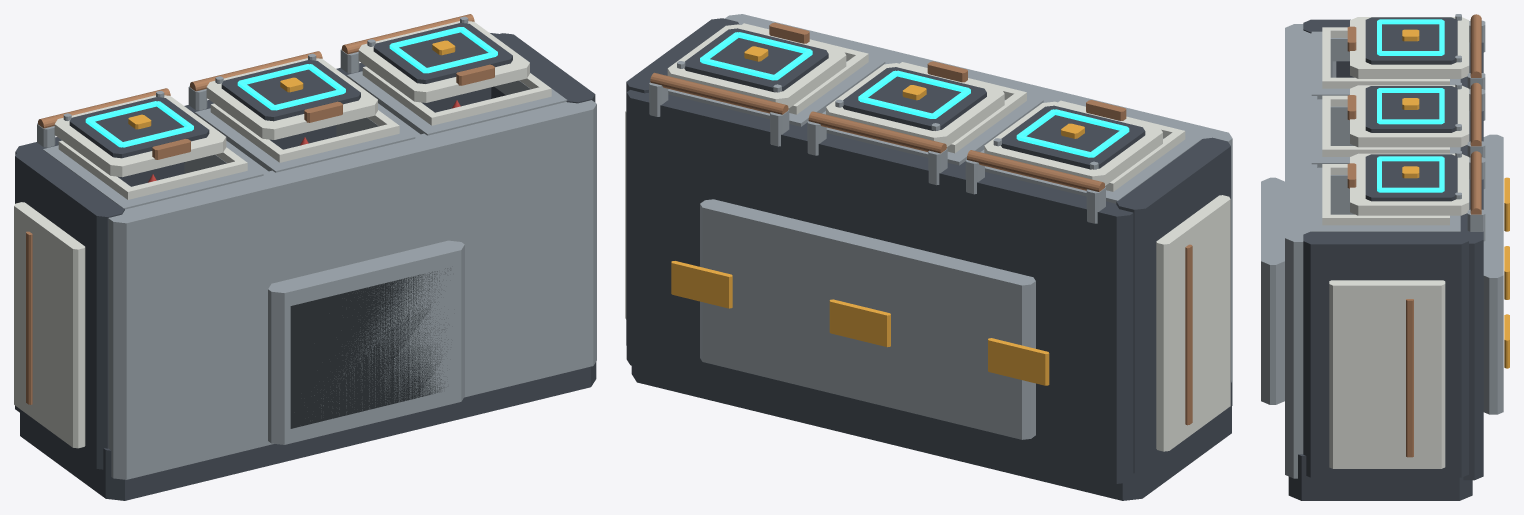
File: M01-009_tri_segment_rocket_launcher_animated.glb
3 views of the same model, side by side, from view 1: azimuth 30°, elevation 25°; view 2: azimuth 150°, elevation 25°; view 3: azimuth 270°, elevation 25° (orthographic). The views are drawn at different scales.
Parts seen in each view (by area): view 1: Bottom_Load_Beam, MOUNT_TOP_SOCKET_PLATE, MOUNT_GASKET, Ceramic_Side_Armor_-1, Rear_Bulkhead, Side_Frame_-1, Hatch_Inner_Armor_A, Hatch_Inner_Armor_B, Hatch_Inner_Armor_C, Opening_Hatch_A, Opening_Hatch_C, Opening_Hatch_B (+12 smaller); view 2: Top_Load_Beam, Dorsal_Spine, Ceramic_Side_Armor_-1, Side_Frame_-1, Rear_Bulkhead, Bottom_Load_Beam, Hatch_Inner_Armor_C, Hatch_Inner_Armor_B, Hatch_Inner_Armor_A, Opening_Hatch_C, Opening_Hatch_A, Opening_Hatch_B (+14 smaller); view 3: Ceramic_Side_Armor_1, Side_Frame_1, Bottom_Load_Beam, Dorsal_Spine, MOUNT_TOP_SOCKET_PLATE, Rear_Bulkhead, Top_Load_Beam, Hatch_Inner_Armor_C, Hatch_Inner_Armor_A, Hatch_Inner_Armor_B, Opening_Hatch_C, Opening_Hatch_B (+24 smaller).
Boxes of the visible parts, left/top/right/bottom form: Bottom_Load_Beam: left=108, top=100, right=596, bottom=479; MOUNT_TOP_SOCKET_PLATE: left=268, top=240, right=464, bottom=444; MOUNT_GASKET: left=290, top=268, right=450, bottom=428; Ceramic_Side_Armor_-1: left=14, top=202, right=85, bottom=448; Rear_Bulkhead: left=20, top=362, right=596, bottom=500; Side_Frame_-1: left=15, top=148, right=124, bottom=469; Hatch_Inner_Armor_A: left=69, top=97, right=209, bottom=158; Hatch_Inner_Armor_B: left=221, top=60, right=360, bottom=121; Hatch_Inner_Armor_C: left=373, top=23, right=512, bottom=83; Opening_Hatch_A: left=54, top=95, right=226, bottom=177; Opening_Hatch_C: left=358, top=21, right=529, bottom=102; Opening_Hatch_B: left=206, top=58, right=377, bottom=139; Top_Load_Beam: left=626, top=90, right=1136, bottom=483; Dorsal_Spine: left=700, top=199, right=1035, bottom=439; Ceramic_Side_Armor_-1: left=1156, top=195, right=1230, bottom=451; Side_Frame_-1: left=1116, top=137, right=1230, bottom=473; Rear_Bulkhead: left=631, top=365, right=1231, bottom=500; Bottom_Load_Beam: left=725, top=14, right=1232, bottom=405; Hatch_Inner_Armor_C: left=684, top=28, right=828, bottom=92; Hatch_Inner_Armor_B: left=842, top=67, right=986, bottom=130; Hatch_Inner_Armor_A: left=1001, top=105, right=1145, bottom=169; Opening_Hatch_C: left=667, top=24, right=846, bottom=108; Opening_Hatch_A: left=984, top=101, right=1162, bottom=185; Opening_Hatch_B: left=826, top=63, right=1004, bottom=146; Ceramic_Side_Armor_1: left=1329, top=280, right=1445, bottom=468; Side_Frame_1: left=1303, top=231, right=1468, bottom=477; Bottom_Load_Beam: left=1285, top=24, right=1317, bottom=478; Dorsal_Spine: left=1483, top=134, right=1503, bottom=414; MOUNT_TOP_SOCKET_PLATE: left=1261, top=177, right=1284, bottom=404; Rear_Bulkhead: left=1288, top=454, right=1472, bottom=500; Top_Load_Beam: left=1460, top=42, right=1483, bottom=480; Hatch_Inner_Armor_C: left=1365, top=154, right=1457, bottom=201; Hatch_Inner_Armor_A: left=1365, top=17, right=1457, bottom=64; Hatch_Inner_Armor_B: left=1365, top=86, right=1457, bottom=132; Opening_Hatch_C: left=1350, top=153, right=1469, bottom=215; Opening_Hatch_B: left=1350, top=85, right=1469, bottom=147.
Bounding box in the file's own units: 1.53 × 0.8665 × 0.6765.
